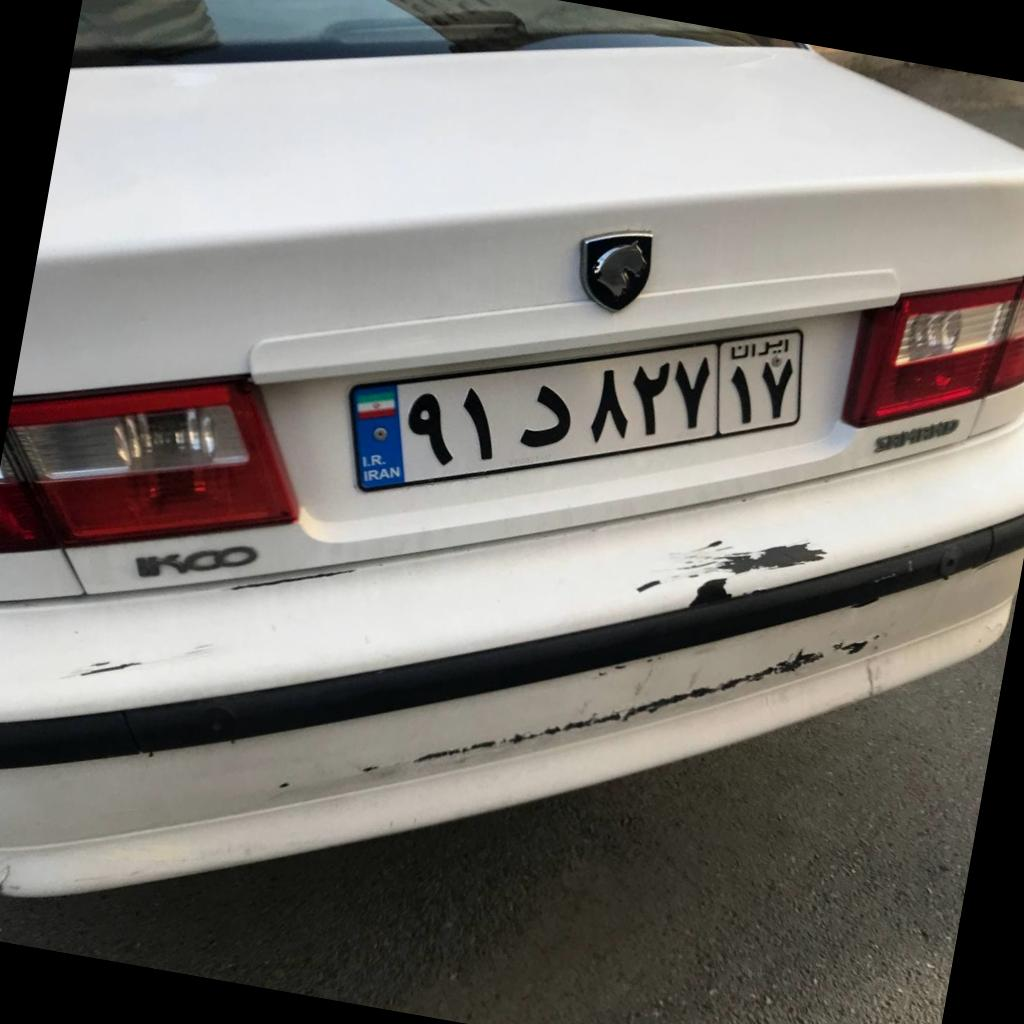Plates: (351, 330, 802, 489)
